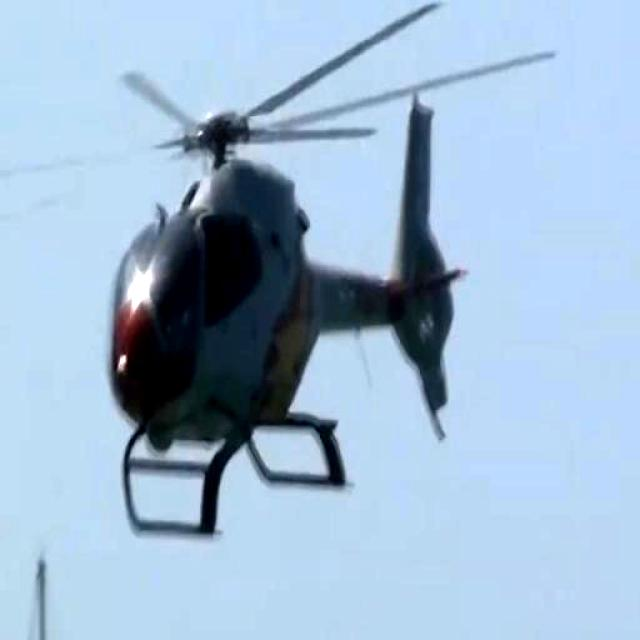drone: (60, 0, 489, 578)
